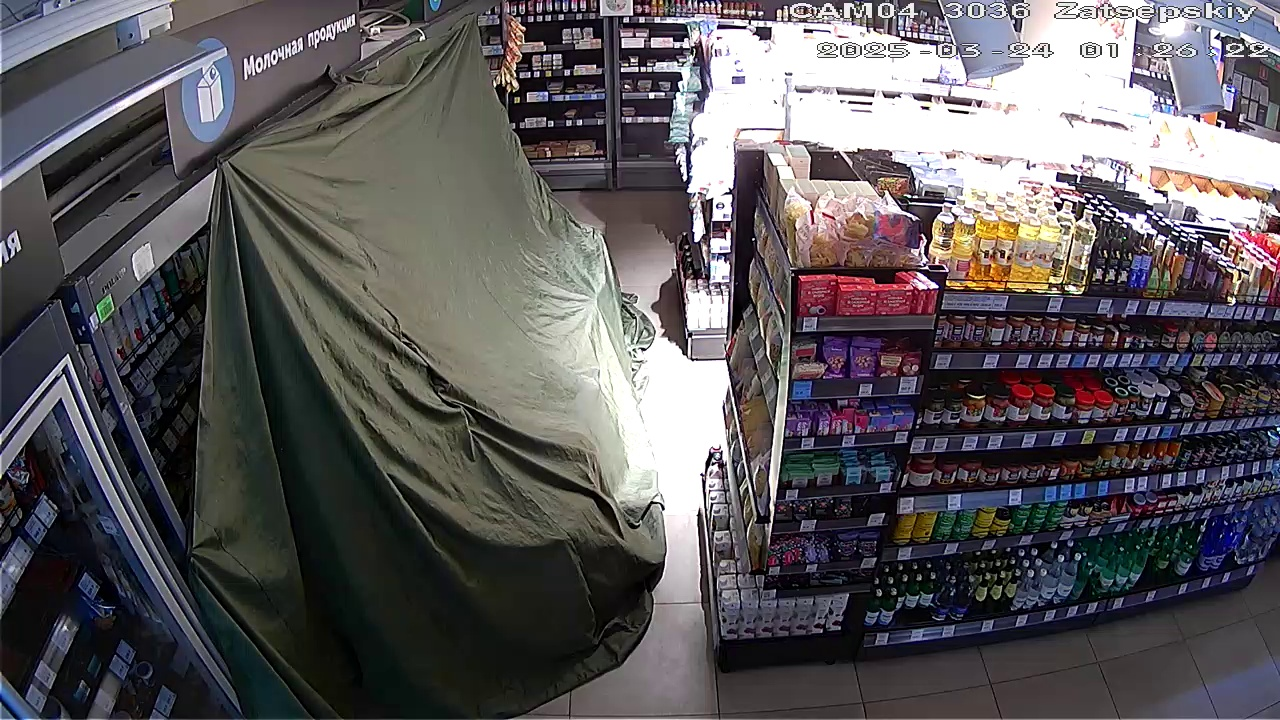dome: (165, 39, 678, 711)
